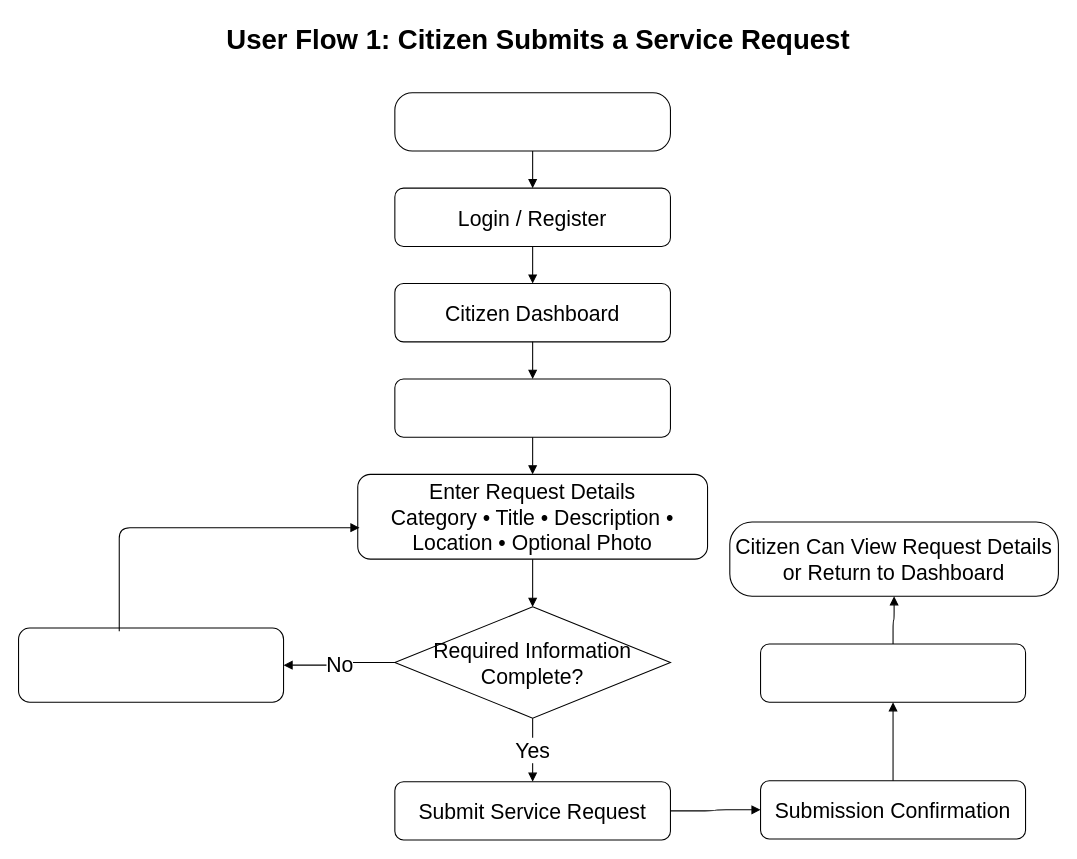
This 1077x859 diagram has some shape labels left out. Here are the shapes that lost their labels. From the top down, the centre of each, then its label:
At point 532,121: "Citizen Opens Platform".
At point 532,407: "Select Report New Issue".
At point 150,664: "Show Validation Message Keep Entered Information".
At point 892,672: "Tracking ID Generated".
